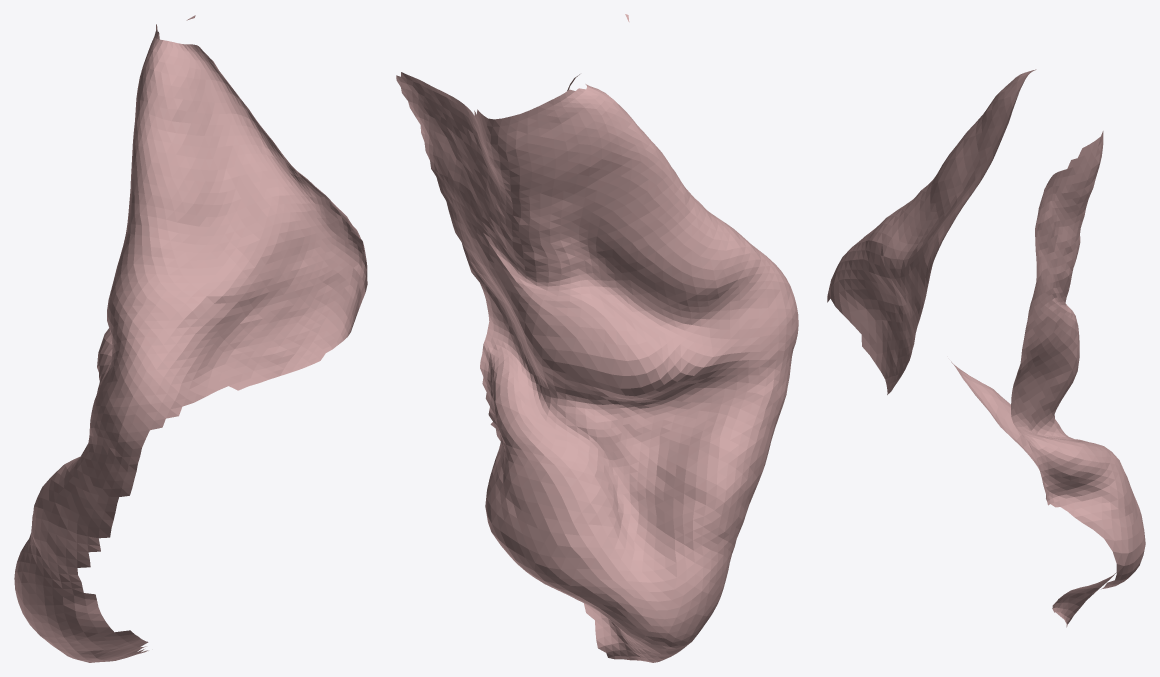
The model's file is rh_lingual.glb.
3 views of the same model, side by side, from view 1: azimuth 30°, elevation 25°; view 2: azimuth 150°, elevation 25°; view 3: azimuth 270°, elevation 25° (orthographic). The views are drawn at different scales.
Visible parts, largest first — view 1: world; view 2: world; view 3: world.
Part boxes in pixels (<box>): world: <box>14,15,367,662</box>; world: <box>396,14,798,662</box>; world: <box>827,69,1145,627</box>.
Bounding box in the file's own units: 31.84 × 58.57 × 25.58.
